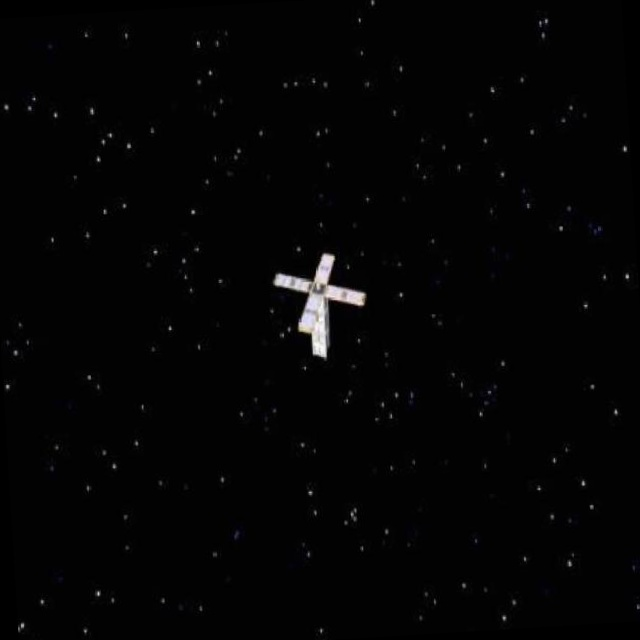medium_debris: (251, 247, 378, 381)
